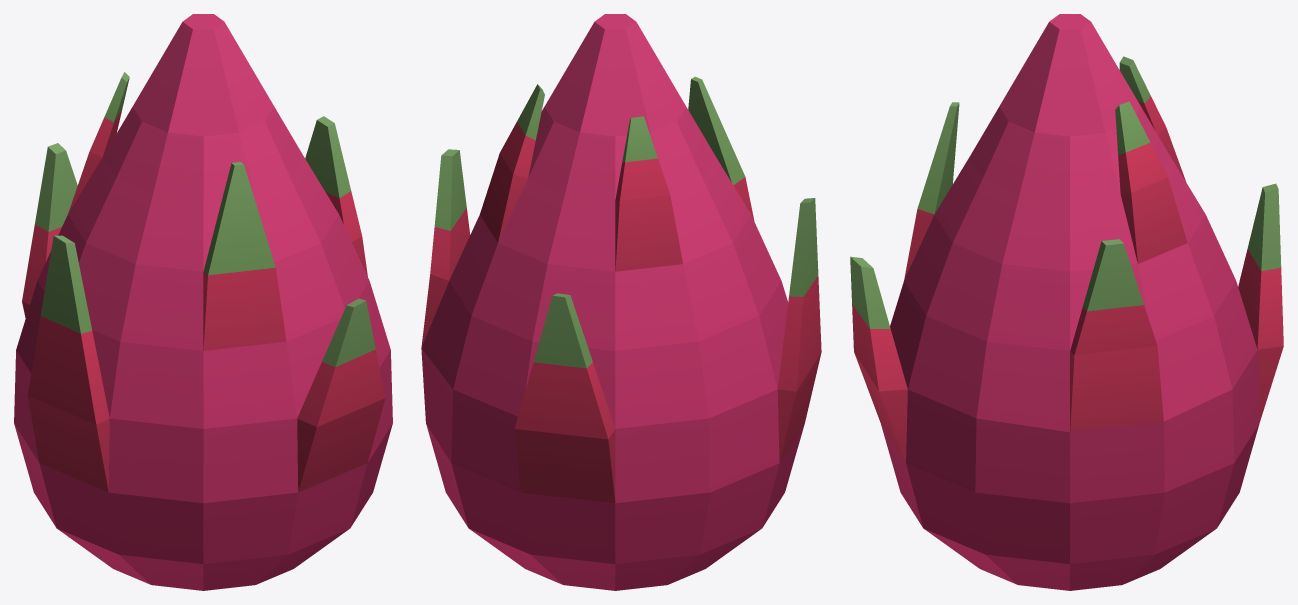
The model's file is Dragon Fruit.fbx.
3 views of the same model, side by side, from view 1: azimuth 30°, elevation 25°; view 2: azimuth 150°, elevation 25°; view 3: azimuth 270°, elevation 25° (orthographic).
Visible parts, largest first — view 1: Dragon Fruit; view 2: Dragon Fruit; view 3: Dragon Fruit.
Part boxes in pixels (<box>): Dragon Fruit: <box>14,14,392,590</box>; Dragon Fruit: <box>421,14,821,590</box>; Dragon Fruit: <box>850,14,1283,590</box>.
Bounding box in the file's own units: 15.79 × 23.86 × 17.07.
